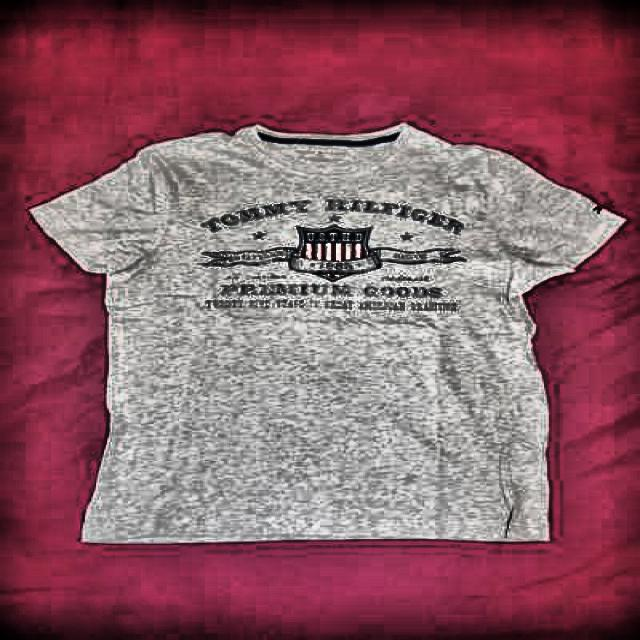clothes: (26, 121, 632, 550)
